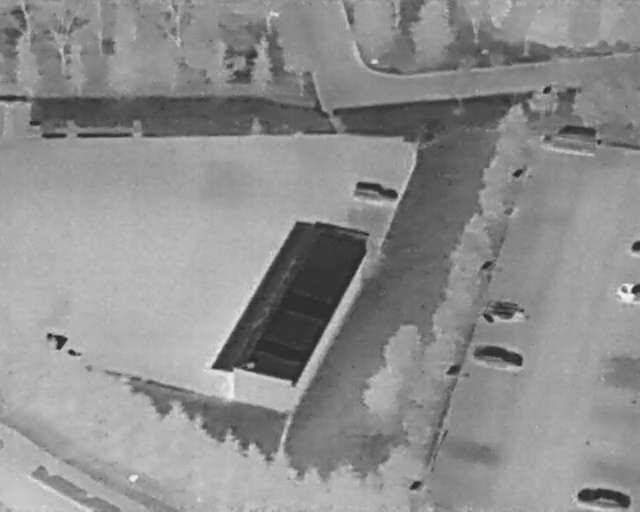Car: (541, 120, 599, 158), (472, 342, 525, 371), (575, 485, 633, 510), (482, 299, 531, 325), (352, 178, 400, 204), (615, 282, 640, 305), (629, 239, 640, 255)
